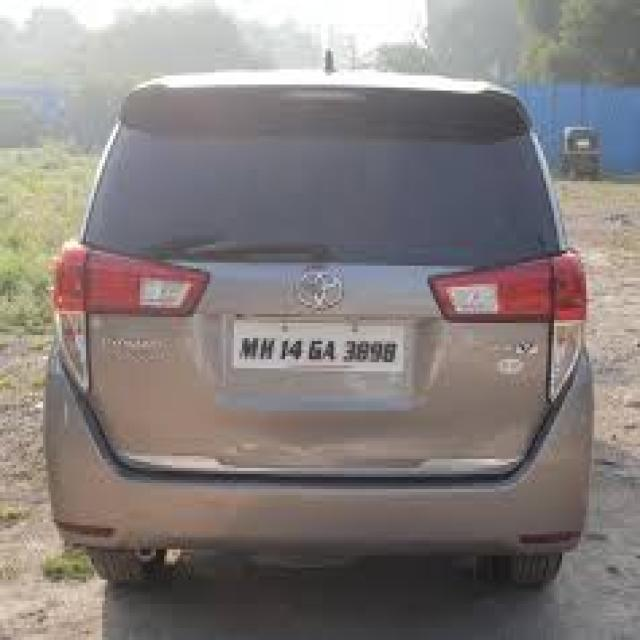light_vehicle: (44, 70, 595, 584)
